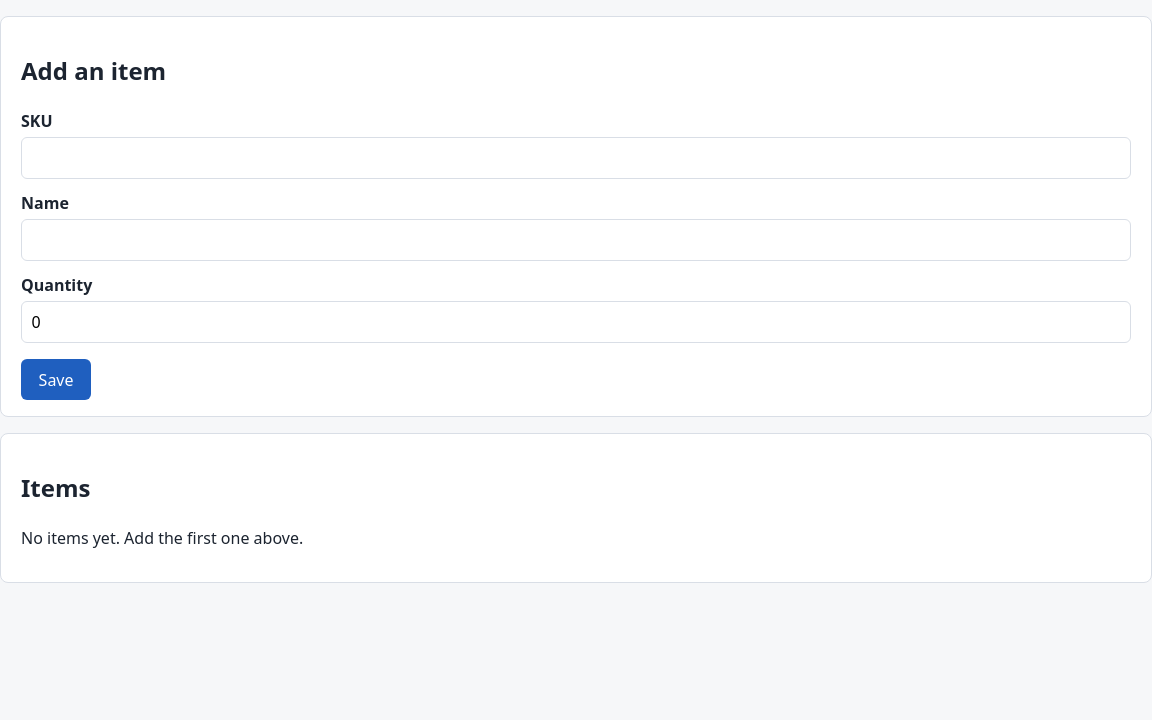
ItemsPage › asks for a new sign-in when the API answers 401
Expected: the text "No items yet. Add the first one above." is shown, [21,527,303,549]
Type "BOLT-1" into the field labelled "SKU" at (576, 158), box [21,137,1131,179]
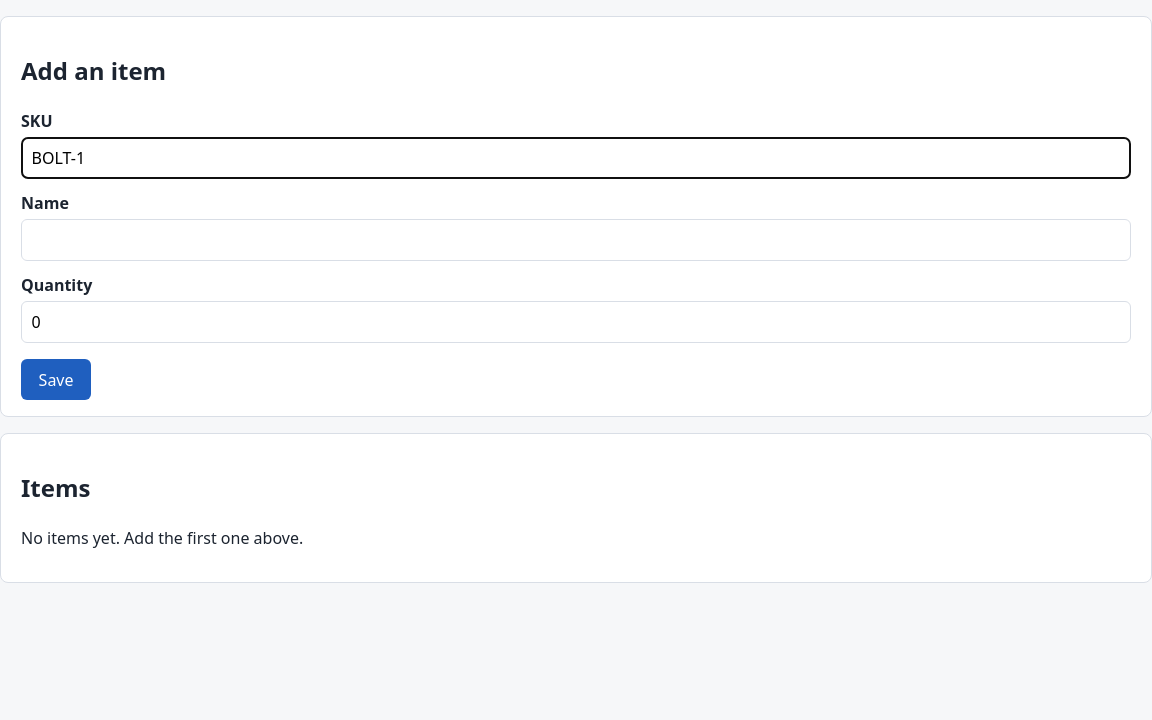
Type "Hex bolt" into the field labelled "Name" at (576, 240), box [21,219,1131,261]
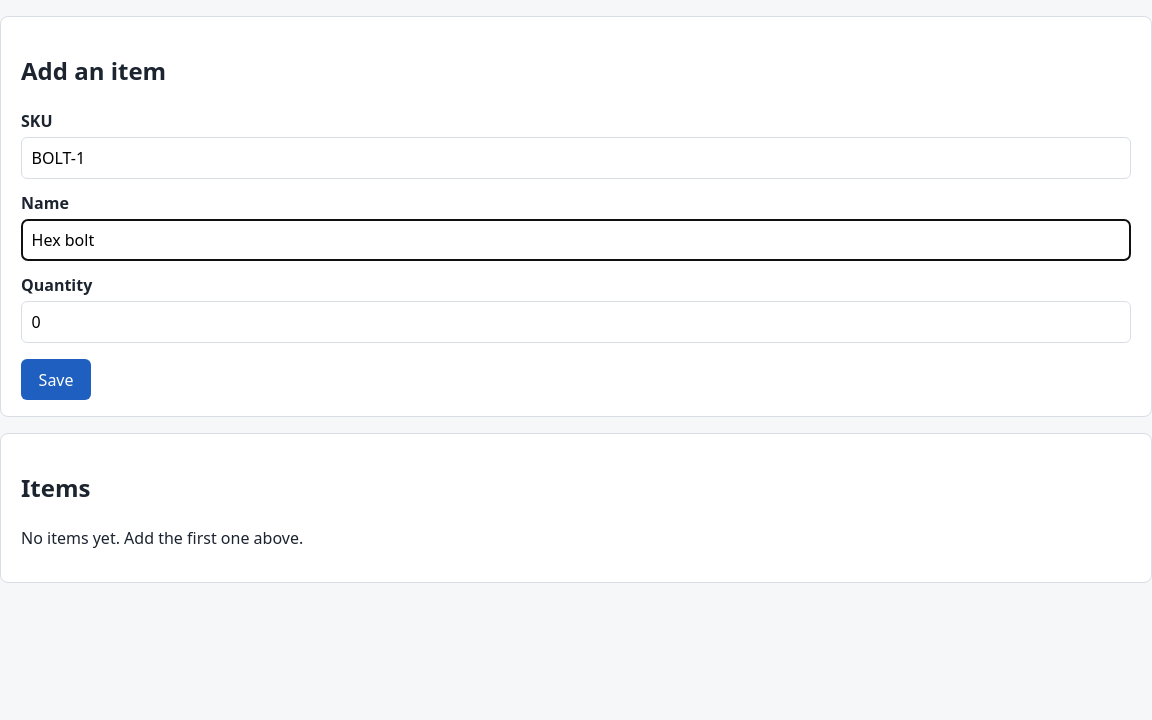
Click the button "Save" at (56, 380), box [21,359,91,400]
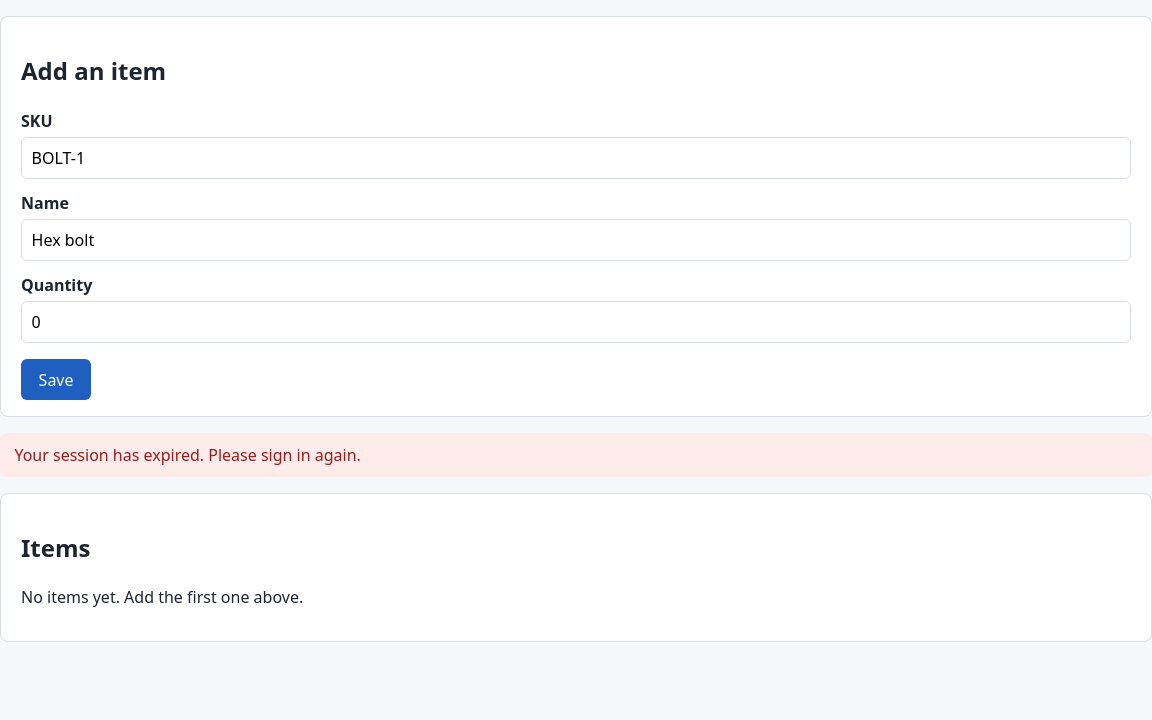
Result: the text "Your session has expired. Please sign in again." is shown at [0,433,1151,477]
